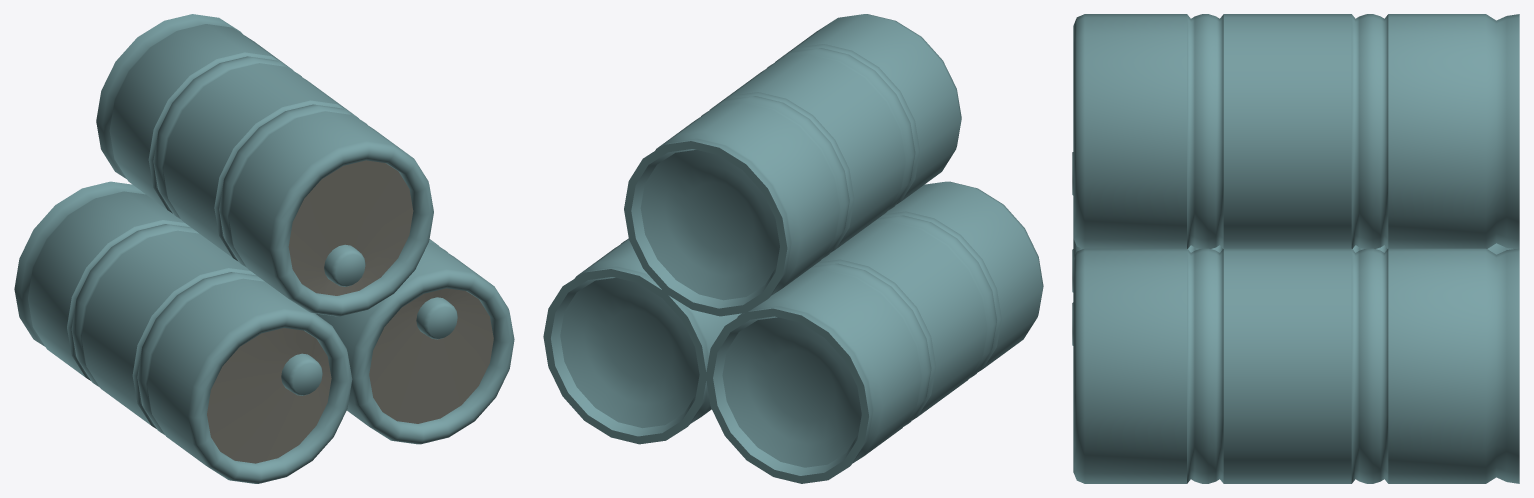
Rendered from EM_142_piled_oil_barrels.glb.
3 views of the same model, side by side, from view 1: azimuth 30°, elevation 25°; view 2: azimuth 150°, elevation 25°; view 3: azimuth 270°, elevation 25° (orthographic). The views are drawn at different scales.
Visible parts, largest first — view 1: barrel_3, barrel_1, barrel_2; view 2: barrel_3, barrel_1, barrel_2; view 3: barrel_2, barrel_3, barrel_1.
Part boxes in pixels (left/top/right/bottom): barrel_3: left=96, top=14, right=433, bottom=316; barrel_1: left=14, top=181, right=352, bottom=483; barrel_2: left=315, top=239, right=514, bottom=444; barrel_3: left=624, top=14, right=961, bottom=316; barrel_1: left=706, top=181, right=1043, bottom=483; barrel_2: left=543, top=238, right=741, bottom=444; barrel_2: left=1072, top=248, right=1519, bottom=483; barrel_3: left=1072, top=14, right=1519, bottom=248; barrel_1: left=1072, top=238, right=1513, bottom=292.
Bounding box in the file's own units: 1.49 × 1.39 × 1.42.
